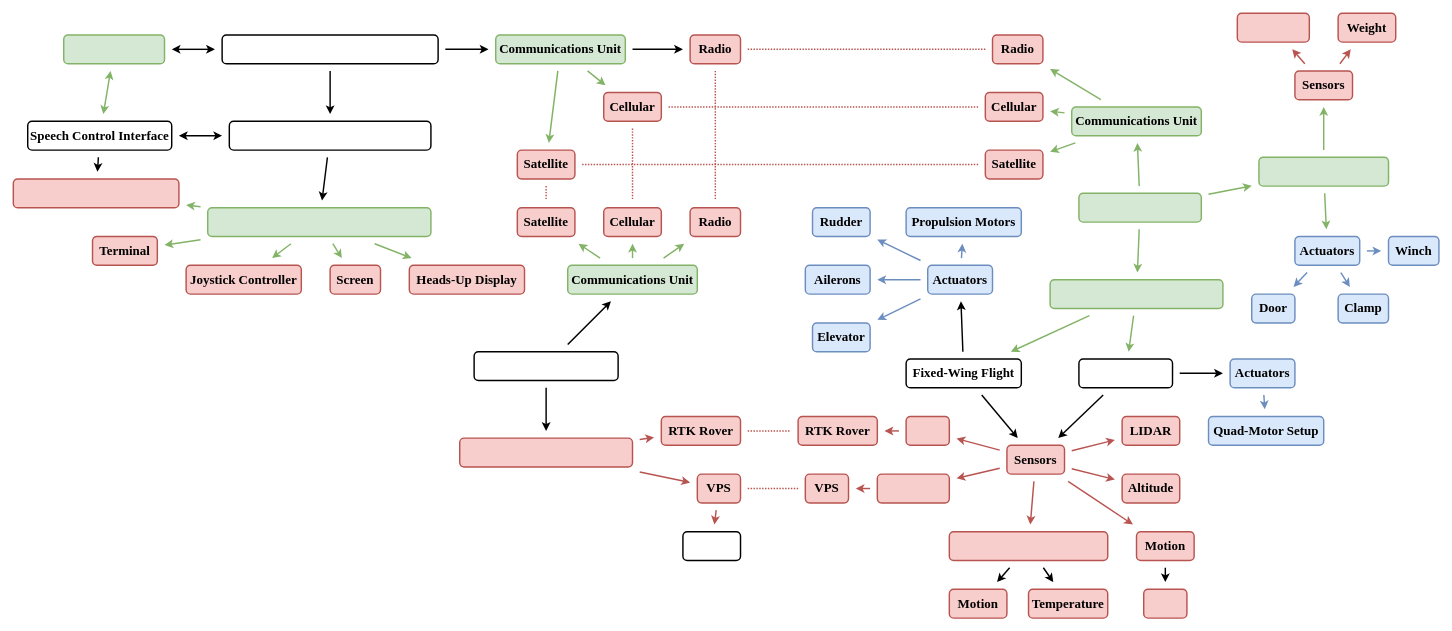
Some shapes in this 1452 by 631 pixel diagram are drawn without their labels. Here are the shapes that lost their labels. From the top down, the box of each, then its label:
(1236, 12, 1310, 42): Proximity
(63, 34, 165, 64): Processing Unit
(221, 34, 438, 64): Automated Flight Navigation System
(228, 120, 431, 150): Adaptive Flight Control Interface
(1258, 156, 1389, 186): Payload Control Unit
(12, 178, 179, 208): Audio Recorder + Speaker
(1078, 192, 1202, 222): Central Control Unit
(207, 207, 431, 237): Human Machine Interface Control Unit
(1049, 279, 1223, 309): Dynamic Flight Control Unit
(473, 351, 618, 381): Vertical Landing Station
(1078, 358, 1173, 388): Vertical Flight
(905, 415, 950, 446): GPS
(459, 437, 633, 467): Approach & Landing Systems
(876, 473, 950, 503): Camera(s)
(682, 531, 741, 561): Markers
(948, 531, 1108, 561): Actuator Feedback System
(1143, 588, 1187, 618): IMU
